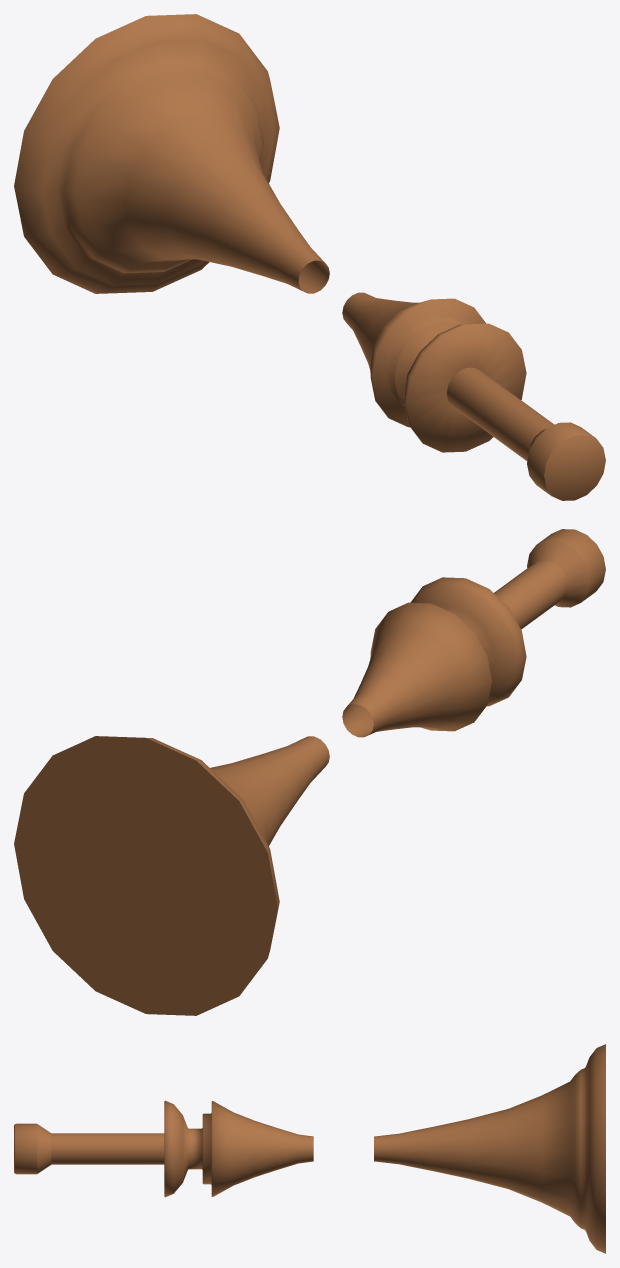
Rendered from MeshDeskLamp_8_0_GeomSubset_0.obj.
3 renders of one model, top to bottom at view 1: azimuth 30°, elevation 25°; view 2: azimuth 150°, elevation 25°; view 3: azimuth 270°, elevation 25°, orthographic. The views are drawn at different scales.
Parts seen in each view (by area): view 1: MeshDeskLamp_8_0_GeomSubset_0; view 2: MeshDeskLamp_8_0_GeomSubset_0; view 3: MeshDeskLamp_8_0_GeomSubset_0.
Boxes of the visible parts, left/top/right/bottom form: MeshDeskLamp_8_0_GeomSubset_0: left=14, top=14, right=605, bottom=500; MeshDeskLamp_8_0_GeomSubset_0: left=14, top=529, right=605, bottom=1015; MeshDeskLamp_8_0_GeomSubset_0: left=14, top=1044, right=605, bottom=1253.
Bounding box in the file's own units: 0.1281 × 0.1281 × 0.3611.
